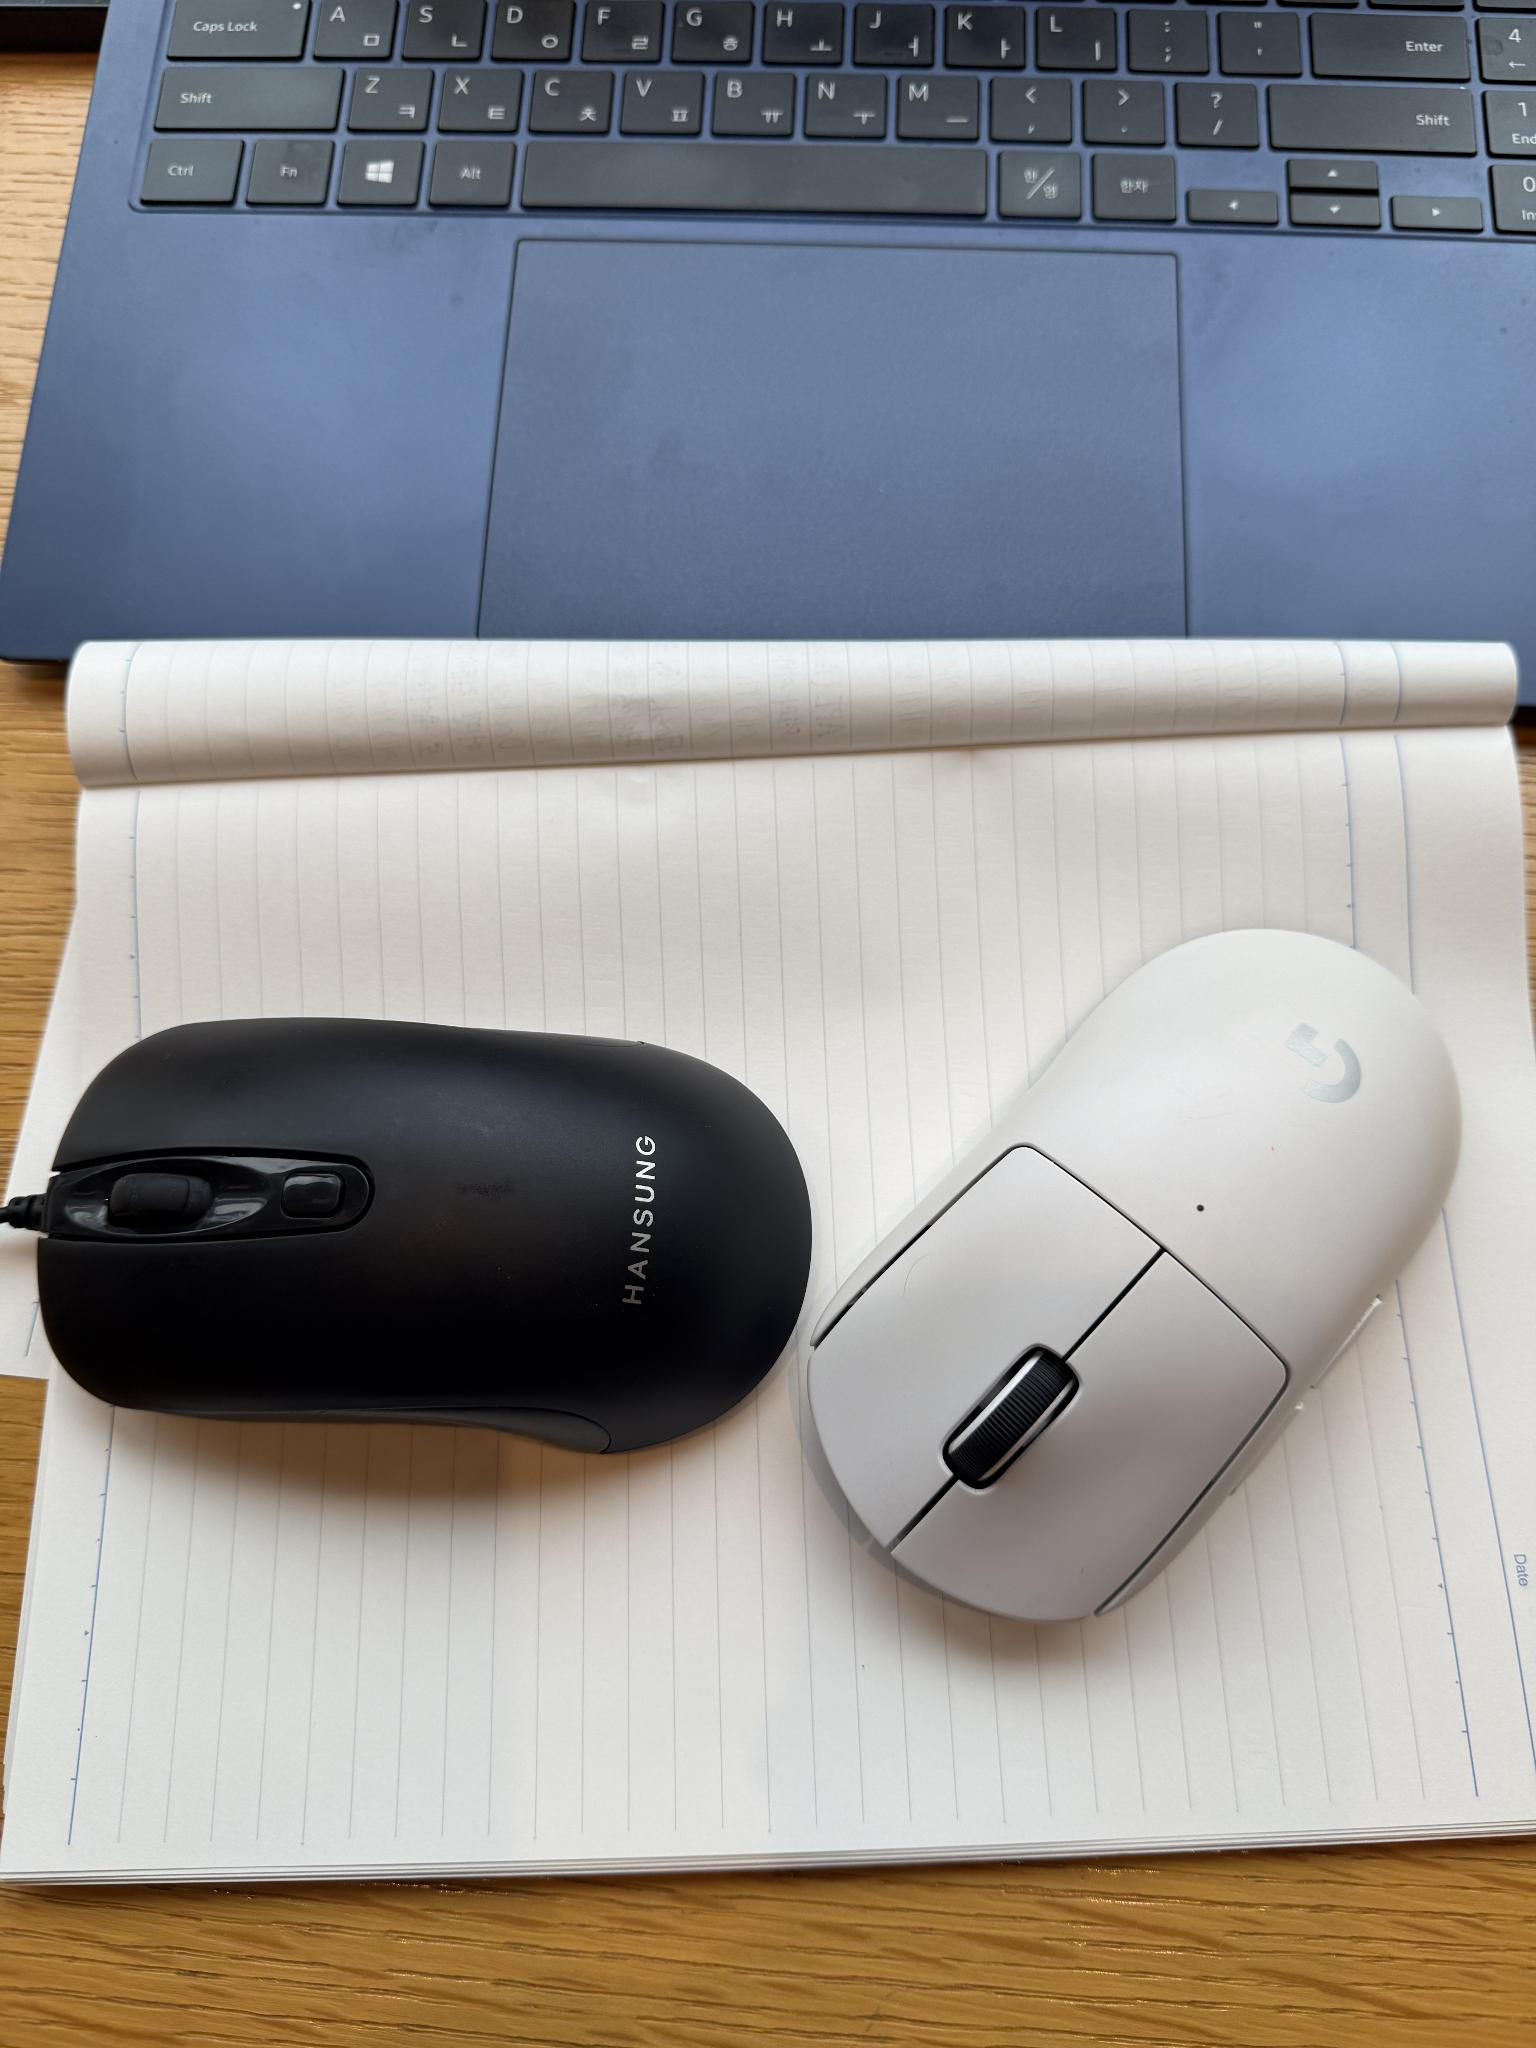front: (800, 914, 1473, 1638), (32, 1008, 810, 1451)
